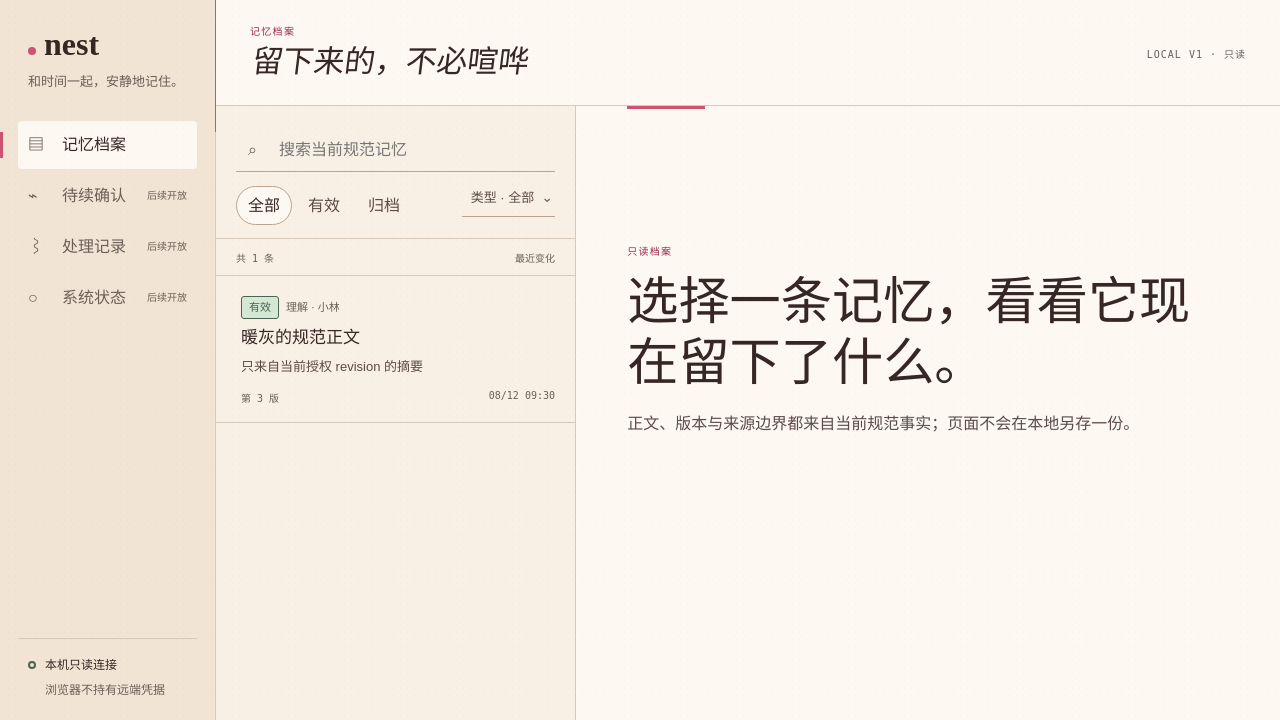
it: 记忆档案生产纵切 › 多段证据按 anchor 分组，不串段且每段带紧凑小标题
Click the button "有效 理解 · 小林 暖灰的规范正文 只来自当前授权 revision 的摘要 第 3 版 08/12 09:30": x=260, y=308 216,276 -> 575,423
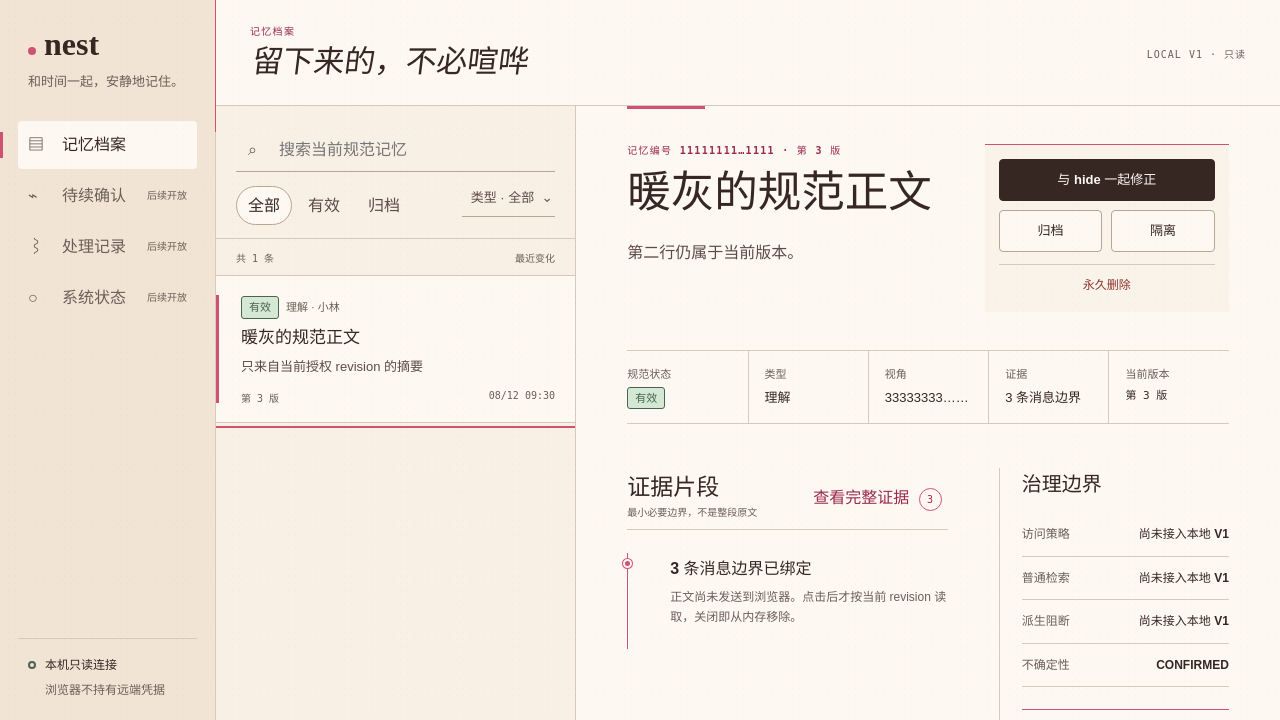
Click the button "查看完整证据 3": x=877, y=497 807,475 -> 948,519
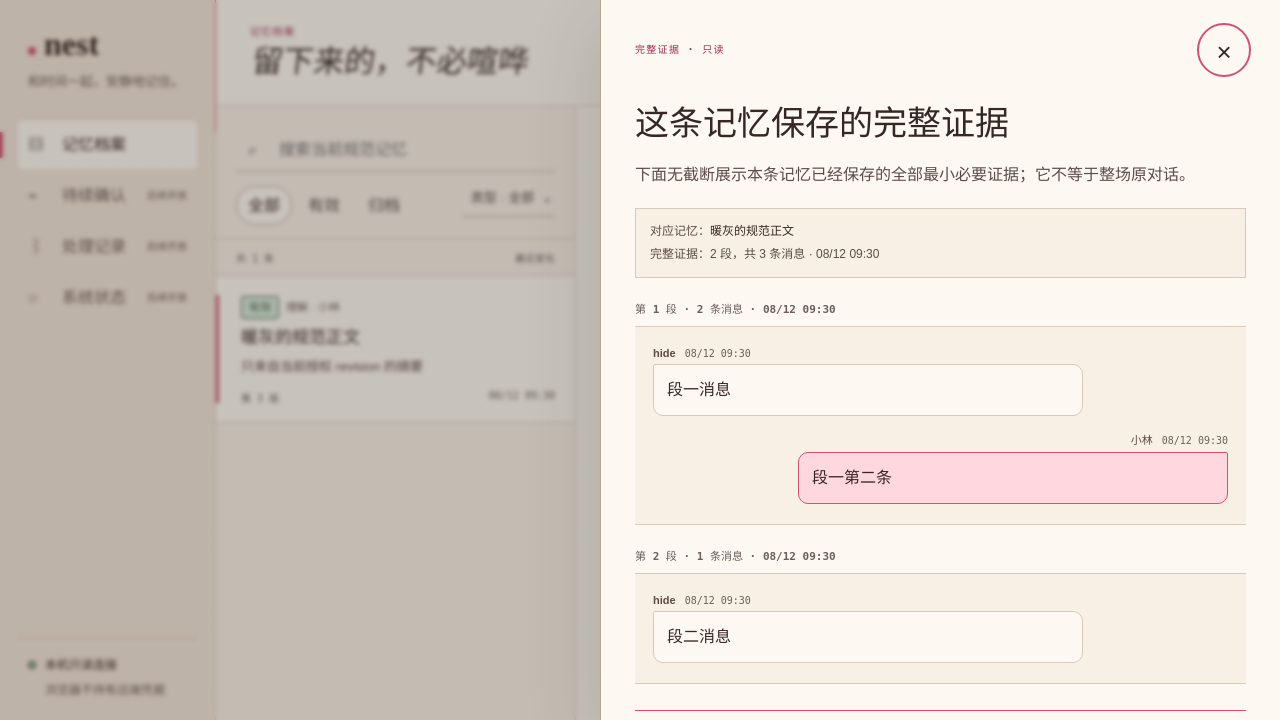
Expected: the text "完整证据：2 段，共 3 条消息 · 08/12 09:30" is shown, 650,247 -> 879,261
Expected: the heading "第 1 段 · 2 条消息 · 08/12 09:30" is shown, 635,303 -> 836,316
Expected: the heading "第 2 段 · 1 条消息 · 08/12 09:30" is shown, 635,550 -> 836,563
